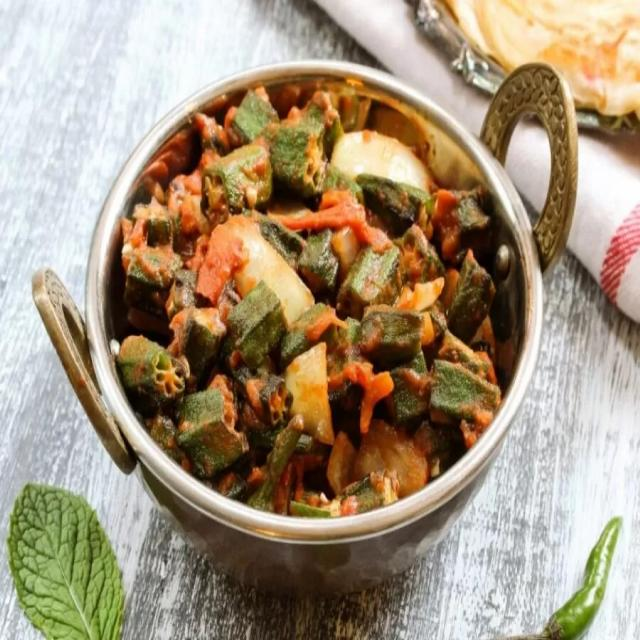BhindiMasala: (116, 88, 502, 518)
